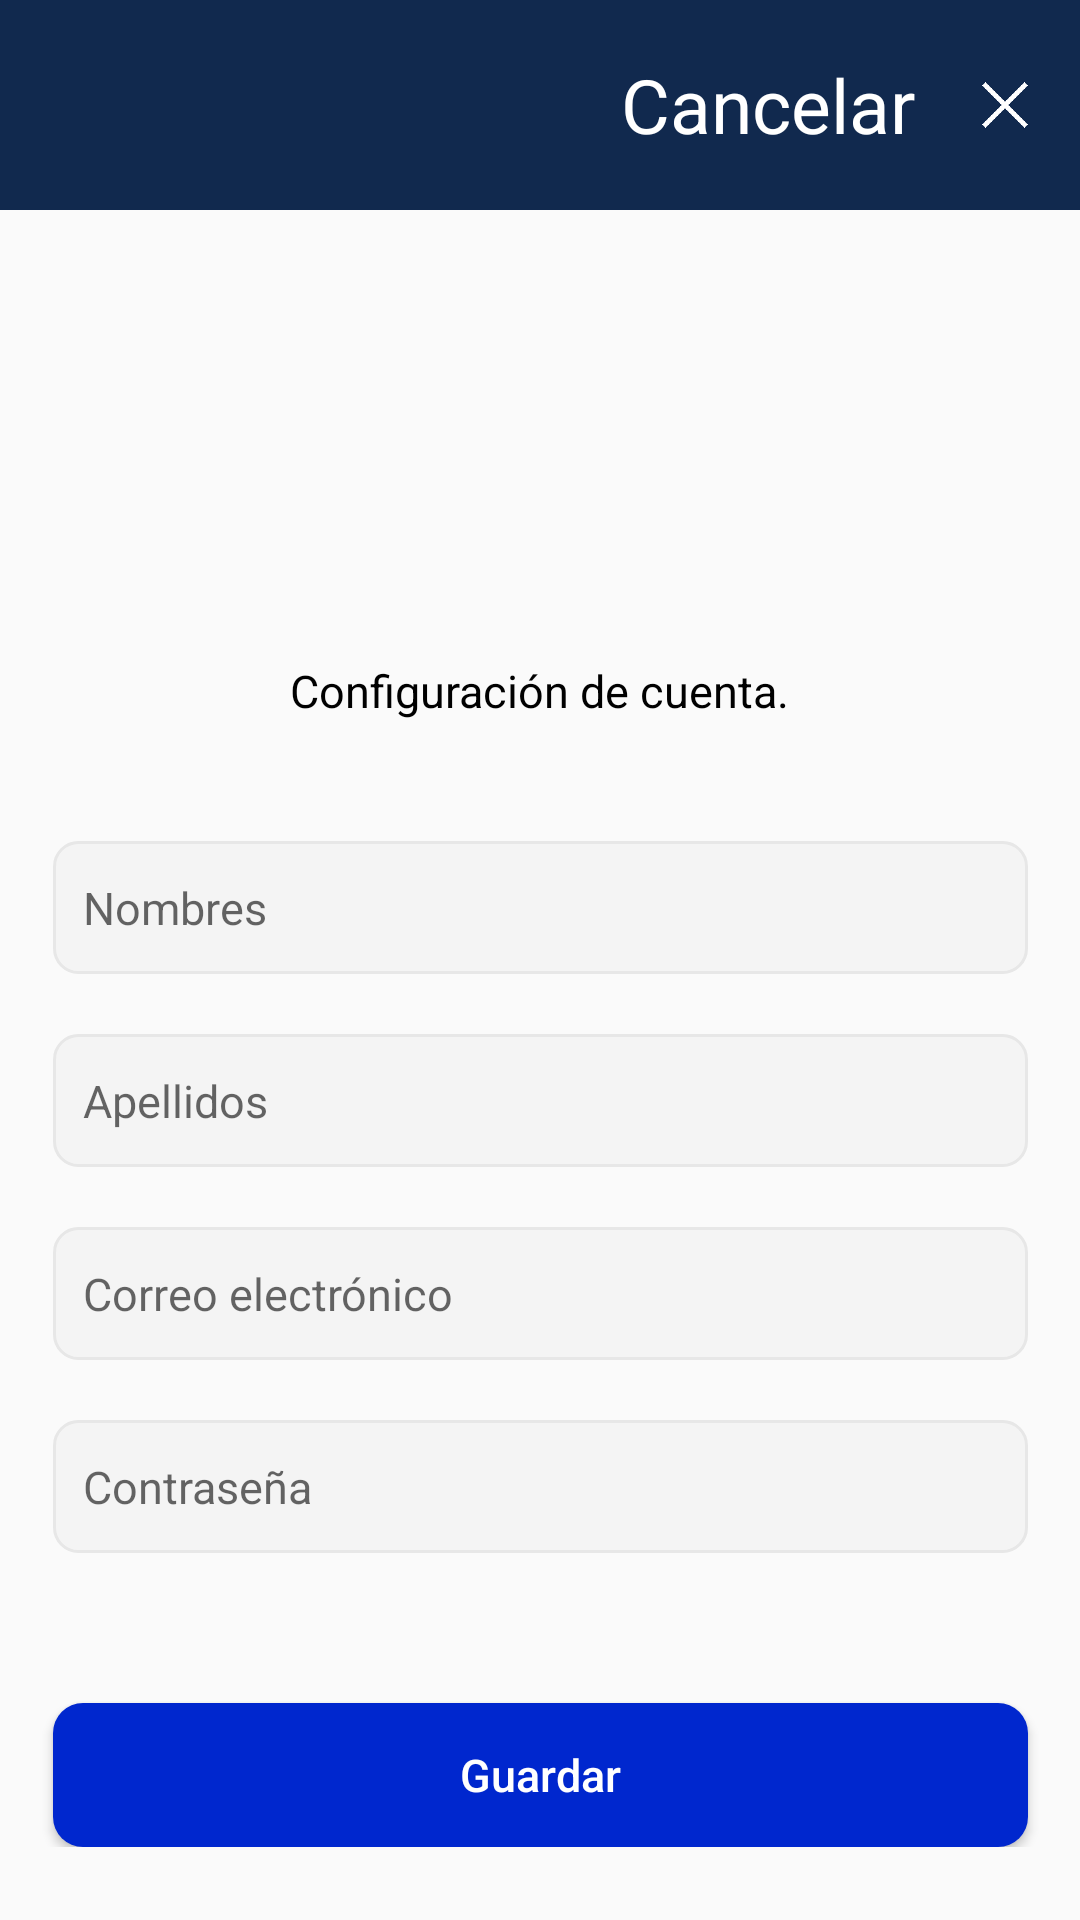

Named icons in this screenshot (1080 x 1920) and their bounding boxes, [x1, y1, x2, y2]:
cancelx: [982, 82, 1028, 128]
